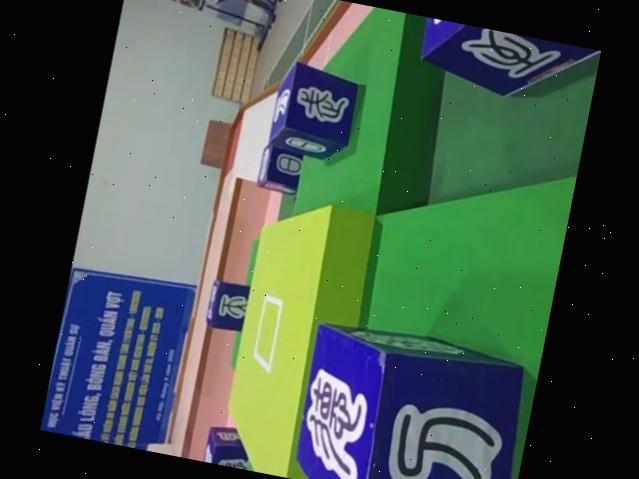R2 Fake Blue: (281, 318, 539, 479), (406, 15, 601, 117), (267, 58, 364, 165), (253, 139, 305, 195), (201, 273, 251, 330), (200, 421, 254, 469)
